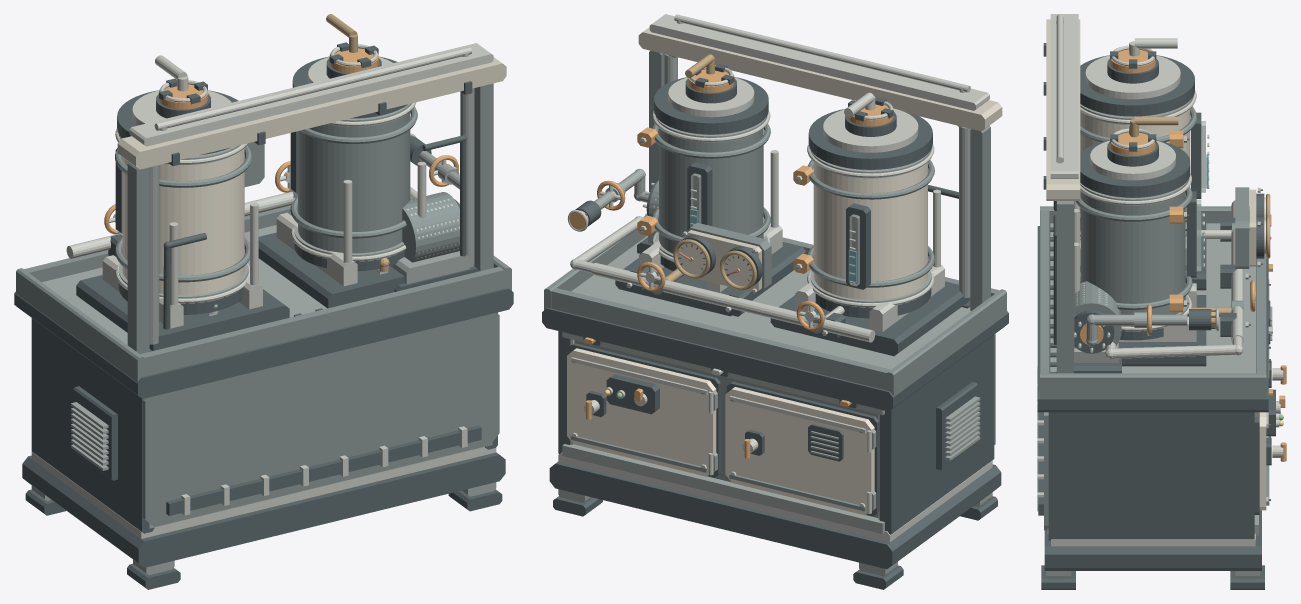
File: nutrient_mixer_source.glb
3 renders of one model, left to right at view 1: azimuth 30°, elevation 25°; view 2: azimuth 150°, elevation 25°; view 3: azimuth 270°, elevation 25°, orthographic. The views are drawn at different scales.
Visible parts, largest first — view 1: Static__gunmetal, Static__graphite, Static__steel, Static__darksteel, Static__cream, Static__bone, Static__rubber, Main_Tank_Cap__ochre; view 2: Static__graphite, Static__gunmetal, Static__steel, Static__cream, Static__darksteel, Service_Door__cream, Static__bone, Static__bronze, Static__ochre, Service_Door__steel, Level_Sight__acrylic, Service_Door__gunmetal; view 3: Static__graphite, Static__gunmetal, Static__steel, Static__darksteel, Static__bone, Static__cream, Static__ochre, Static__bronze, Level_Sight__acrylic, Concentrate_Cap__ochre, Main_Tank_Cap__ochre, Static__rubber (+1 smaller).
Boxes of the visible parts, x1,y1,x2,y2 form: Static__gunmetal: (16, 83, 511, 526); Static__graphite: (14, 56, 513, 589); Static__steel: (31, 43, 496, 538); Static__darksteel: (31, 88, 496, 575); Static__cream: (122, 148, 244, 295); Static__bone: (117, 57, 506, 169); Static__rubber: (163, 135, 466, 329); Main_Tank_Cap__ochre: (158, 84, 208, 109); Static__graphite: (542, 77, 1008, 589); Static__gunmetal: (544, 50, 1006, 517); Static__steel: (558, 14, 992, 542); Static__cream: (567, 162, 927, 476); Static__darksteel: (558, 54, 992, 576); Service_Door__cream: (725, 387, 874, 515); Static__bone: (638, 27, 1002, 291); Static__bronze: (666, 54, 756, 290); Static__ochre: (583, 127, 851, 419); Service_Door__steel: (729, 396, 866, 507); Level_Sight__acrylic: (691, 173, 859, 286); Service_Door__gunmetal: (729, 474, 866, 511); Static__graphite: (1037, 43, 1275, 589); Static__gunmetal: (1040, 106, 1269, 530); Static__steel: (1037, 14, 1283, 546); Static__darksteel: (1046, 97, 1272, 577); Static__bone: (1046, 19, 1256, 266); Static__cream: (1080, 109, 1266, 510); Static__ochre: (1080, 130, 1286, 461); Static__bronze: (1130, 116, 1270, 316); Level_Sight__acrylic: (1196, 121, 1205, 271); Concentrate_Cap__ochre: (1110, 132, 1156, 155); Main_Tank_Cap__ochre: (1110, 49, 1156, 72); Static__rubber: (1053, 201, 1056, 344).
Bounding box in the file's own units: 1.52 × 1.75 × 0.9175.
